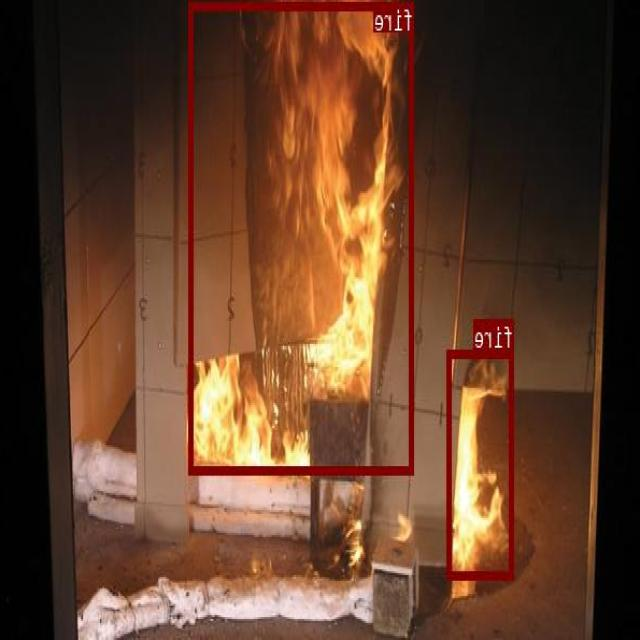fire: (190, 1, 414, 472), (448, 348, 514, 578)
